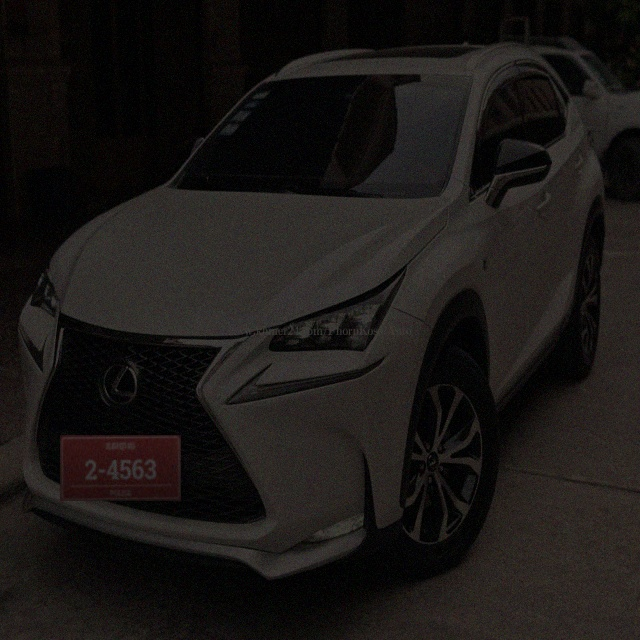Plate Number: (61, 436, 181, 502)
